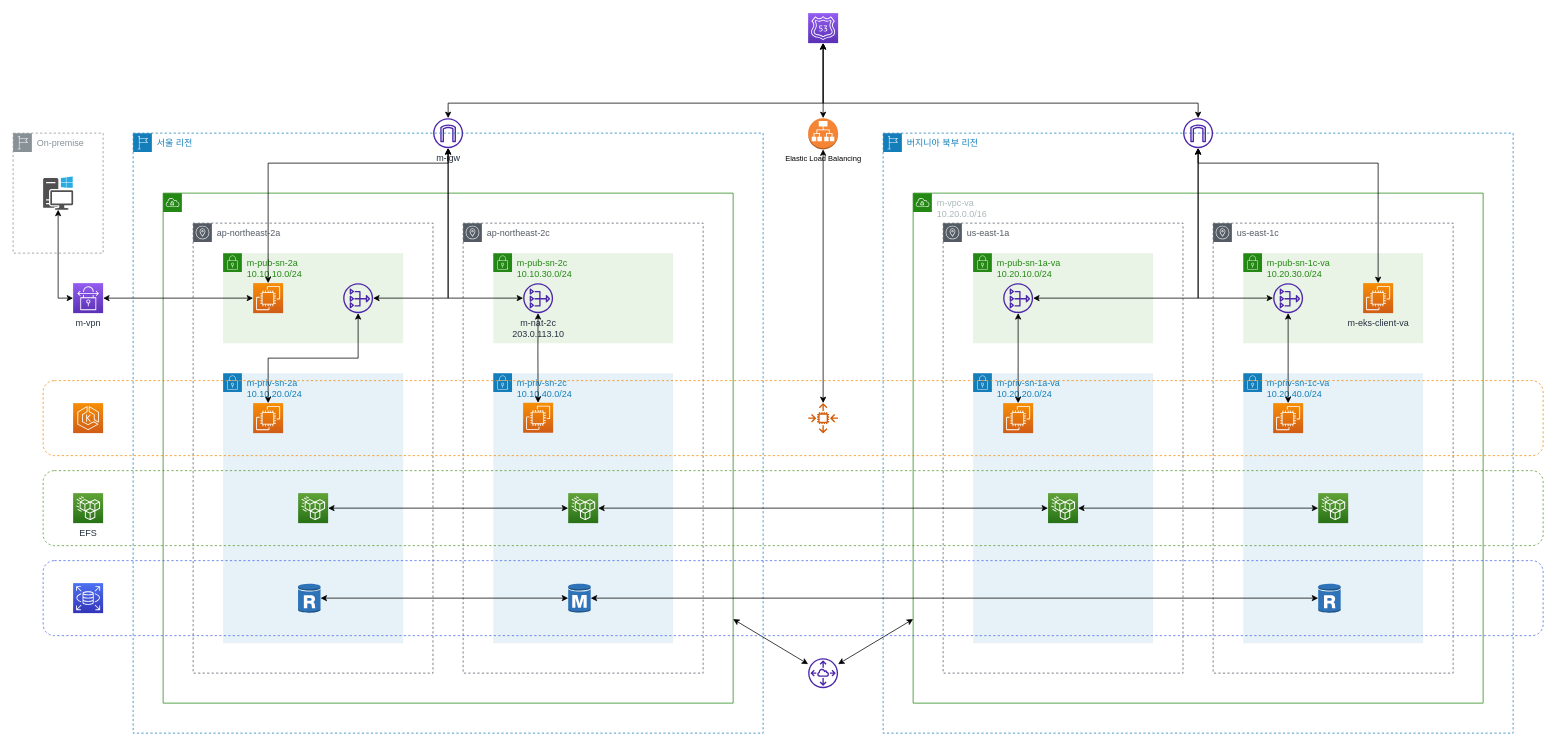
Image size: 1556x746. Some labels were removed from this diagram. The centre of each missing label's shape, as x and y in pixels:
"Auto Scaling" goes at point (823, 418).
"EKS" goes at point (87, 417).
"m-eks-client" goes at point (268, 298).
"m-igw-va" goes at point (1198, 133).
"m-nat-1a-va" goes at point (1018, 298).
"m-nat-1c-va" goes at point (1288, 298).
"m-nat-2a 203.0.113.20" goes at point (358, 298).
"m-vpc 10.10.0.0/16" goes at point (447, 447).
"PeeringConnections" goes at point (823, 673).
"RDS" goes at point (87, 597).
"ROUTE 53" goes at point (822, 27).
